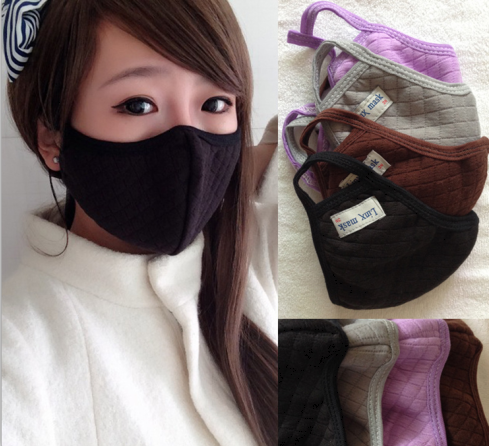face_mask: (67, 25, 245, 244)
